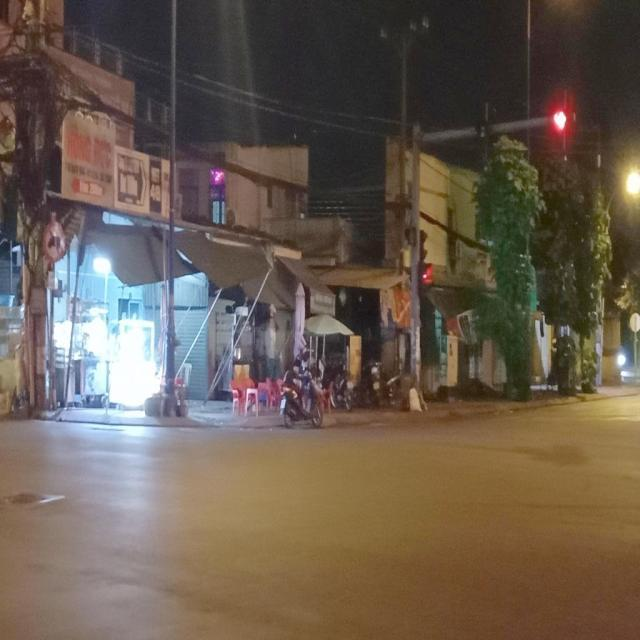106-cam-oto-tai: (42, 220, 66, 263)
